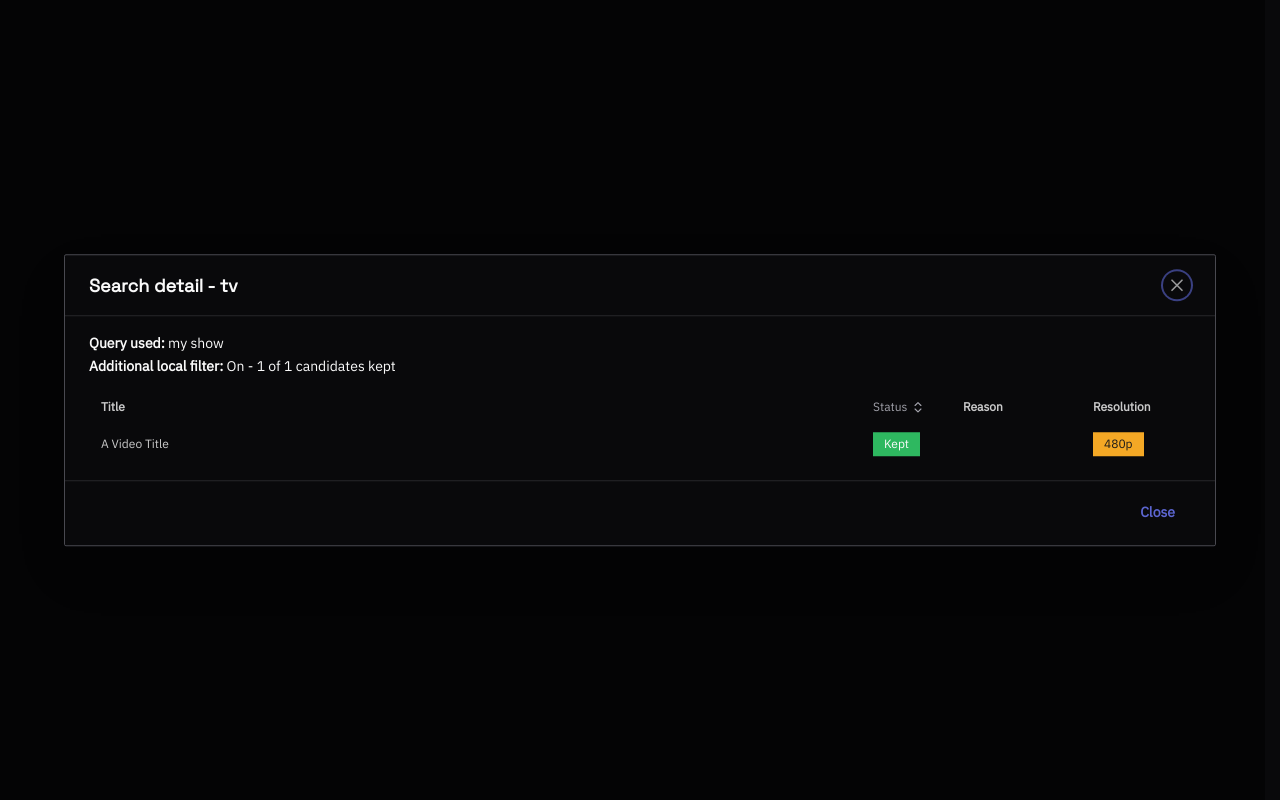
Test case: NzbSearchTraceDialog › resolution column › explains a capped resolution in a tooltip
The width and height of the screenshot is (1280, 800).
Hover over the button "480p" at (1118,444), box [1093,432,1144,456]
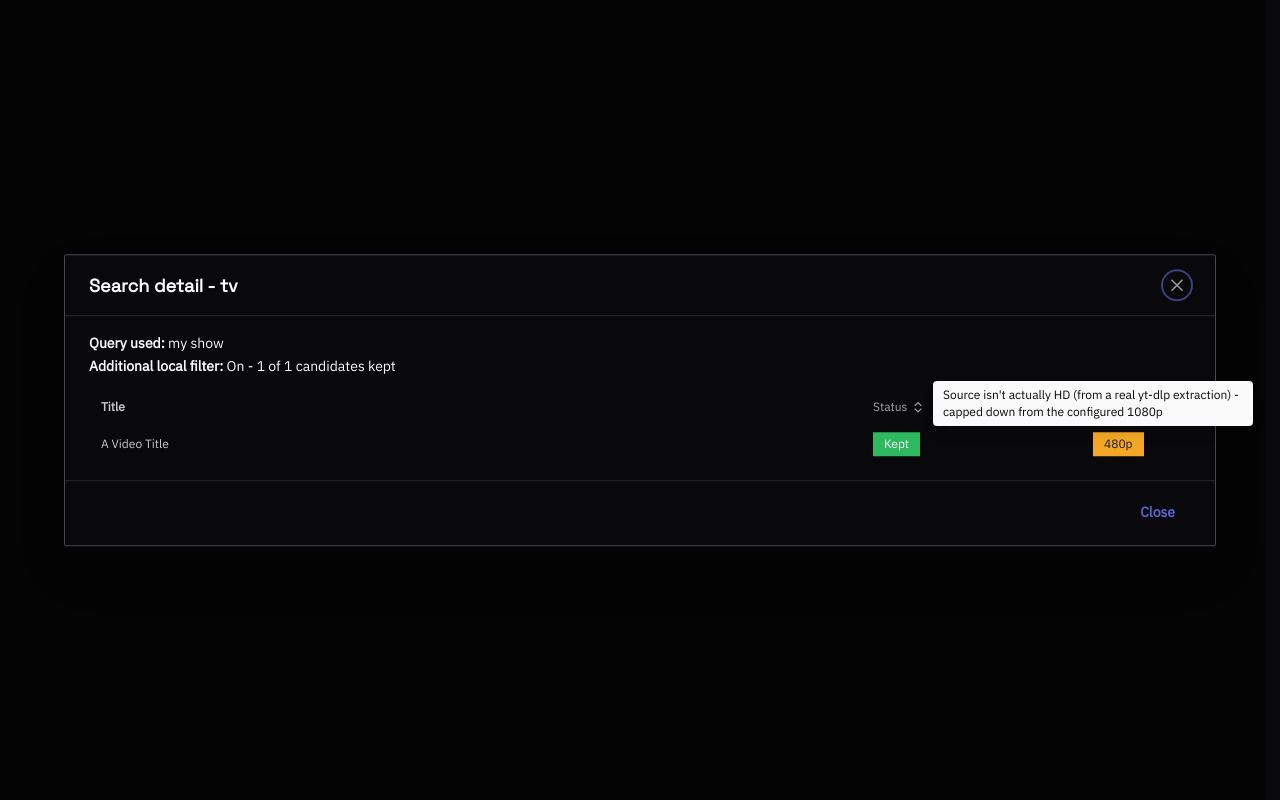
expect the tooltip "capped down from the configured 1080p" is shown: met, box [943,387,1239,418]
